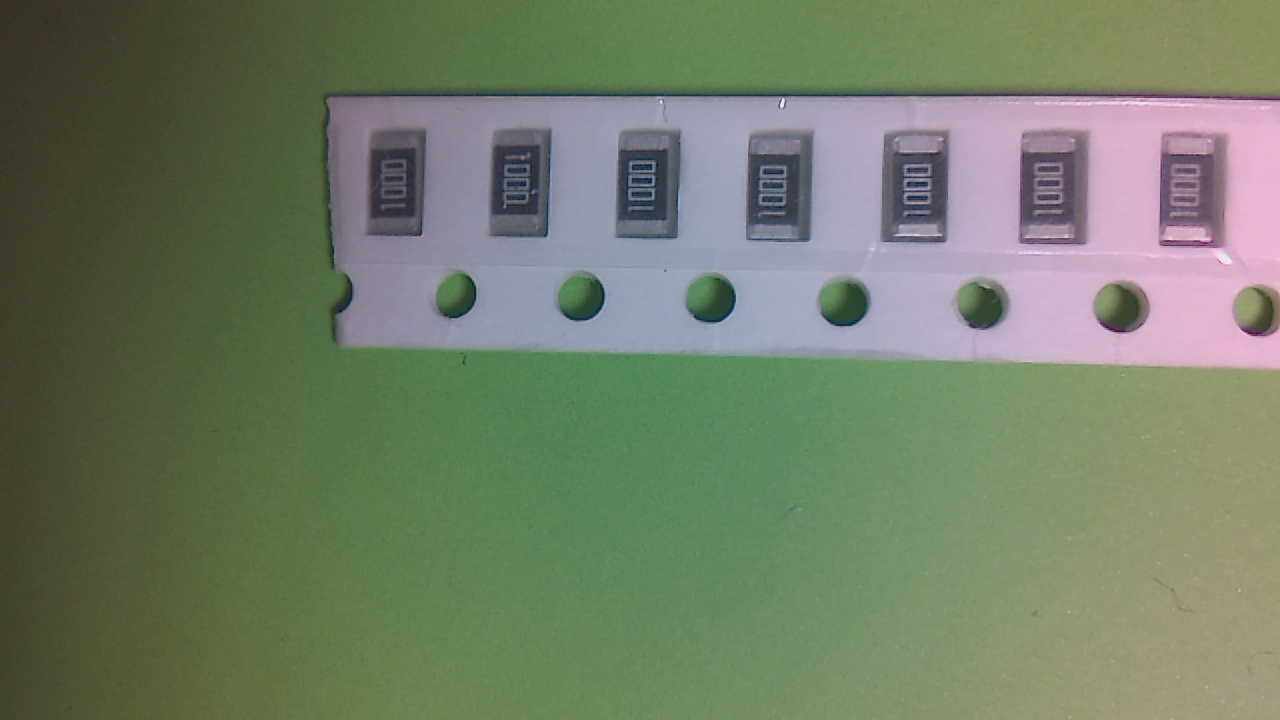Resistor: (1022, 137, 1086, 248), (1165, 138, 1224, 255), (889, 139, 952, 248), (751, 141, 813, 245), (621, 138, 682, 243), (495, 133, 554, 238), (374, 138, 422, 237)
